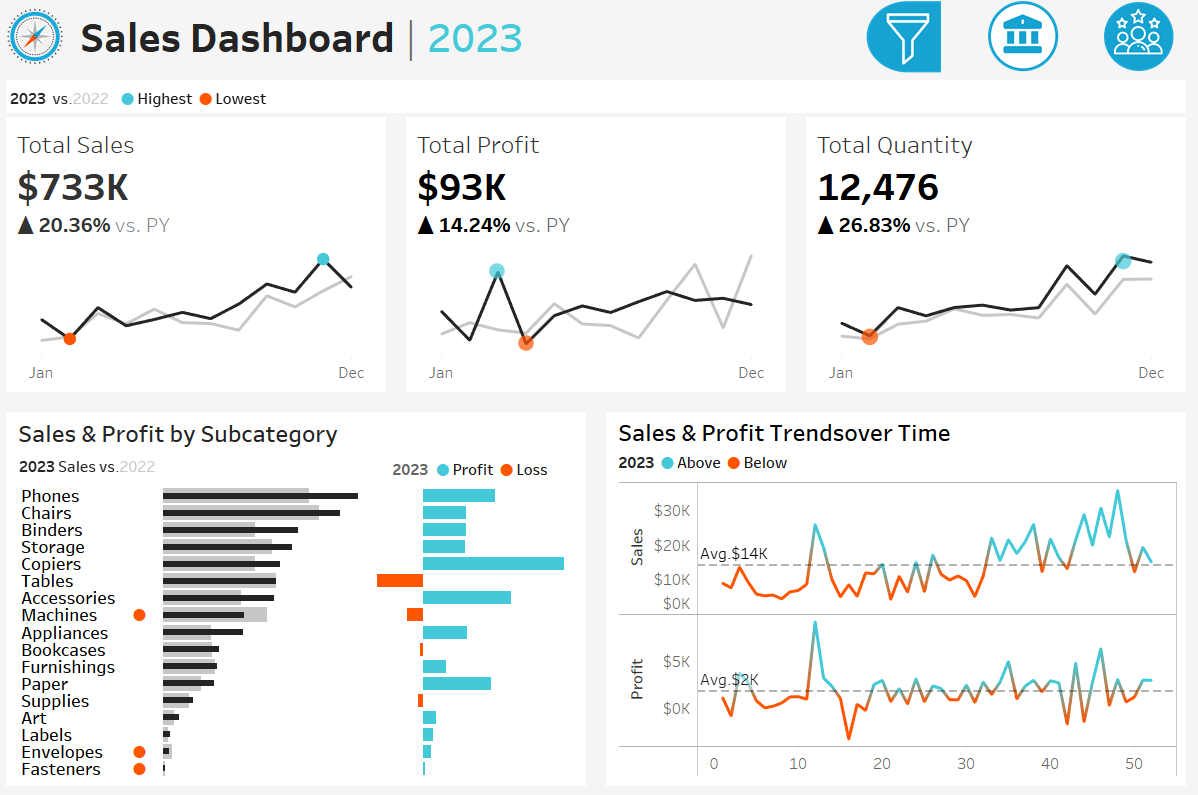

What the dashboard file says about the page in this screenshot:
{"tool":"tableau","page":{"name":"Sales Dashboard","canvas":[1200,800],"ordinal":1},"visuals":[{"type":"image","param":"Image/Icon - Logo.png","box":[0,0,77,80]},{"type":"text","box":[77,0,893,80]},{"type":"dashboard-object","box":[970,0,115,80]},{"type":"dashboard-object","box":[1085,0,115,80]},{"type":"dashboard-object","box":[866,3,80,76]},{"type":"blank","box":[957,10,232,52]},{"type":"text","box":[957,62,232,40]},{"type":"worksheet","title":"Legend KPI","mark":"Automatic","box":[0,80,1200,41]},{"type":"parameter","param":"[Parameters].[Parameter 1]","box":[957,102,232,56]},{"type":"worksheet","title":"KPI Sales","mark":"Automatic","rows":["Calculation_273030733344067592"],"cols":["Order Date"],"box":[0,121,400,285]},{"type":"worksheet","title":"KPI Profit","mark":"Automatic","rows":["Calculation_273030733363625999"],"cols":["Order Date"],"box":[400,121,400,285]},{"type":"worksheet","title":"KPI Quantity","mark":"Automatic","rows":["Min/Max Profit (copy)_273030733416497182"],"cols":["Order Date"],"box":[800,121,400,285]},{"type":"blank","box":[957,158,232,42]},{"type":"text","box":[957,200,232,40]},{"type":"filter","title":"KPI Sales","param":"[federated.0vbcj3a1vl79iu17ob1gk0ustjtu].[none:Category:nk]","box":[957,240,232,61]},{"type":"filter","title":"KPI Sales","param":"[federated.0vbcj3a1vl79iu17ob1gk0ustjtu].[none:Sub-Category:nk]","box":[957,301,232,61]},{"type":"text","box":[957,362,232,50]},{"type":"filter","title":"KPI Sales","param":"[federated.0vbcj3a1vl79iu17ob1gk0ustjtu].[none:Region:nk]","box":[957,412,232,61]},{"type":"text","box":[15,421,570,32]},{"type":"text","box":[615,421,570,29.4]},{"type":"text","box":[615,450.4,570,31.5]},{"type":"worksheet","title":"Legend Subcategory","mark":"Automatic","box":[19,453,372,34]},{"type":"text","box":[391,453,190,34]},{"type":"filter","title":"KPI Sales","param":"[federated.0vbcj3a1vl79iu17ob1gk0ustjtu].[none:State:nk]","box":[957,473,232,61]},{"type":"worksheet","title":"Weekly Trends","mark":"Automatic","rows":["Calculation_273030733321859072","Calculation_273030733362360333"],"cols":["Order Date"],"box":[615,481.9,570,303.1]},{"type":"worksheet","title":"Subcategory Comparision","mark":"Bar","rows":["Sub-Category","Calculation_273030733452263457"],"cols":["Calculation_273030733322571777","Calculation_273030733321859072","Calculation_273030733362360333"],"box":[15,487,570,298]},{"type":"filter","title":"KPI Sales","param":"[federated.0vbcj3a1vl79iu17ob1gk0ustjtu].[none:City:nk]","box":[957,534,232,61]}]}

Visuals, with their boxes in screenshot pixels (x1, y1, x2, y2), scaled from the page's 1200x800 canvas onto the 1198x795 screenshot:
image: region(0, 0, 77, 80)
text: region(77, 0, 968, 80)
dashboard-object: region(968, 0, 1083, 80)
dashboard-object: region(1083, 0, 1197, 80)
dashboard-object: region(865, 3, 944, 79)
blank: region(955, 10, 1187, 62)
text: region(955, 62, 1187, 101)
"Legend KPI" worksheet: region(0, 80, 1197, 120)
parameter: region(955, 101, 1187, 157)
"KPI Sales" worksheet: region(0, 120, 399, 403)
"KPI Profit" worksheet: region(399, 120, 799, 403)
"KPI Quantity" worksheet: region(799, 120, 1197, 403)
blank: region(955, 157, 1187, 199)
text: region(955, 199, 1187, 238)
"KPI Sales" filter: region(955, 238, 1187, 299)
"KPI Sales" filter: region(955, 299, 1187, 360)
text: region(955, 360, 1187, 409)
"KPI Sales" filter: region(955, 409, 1187, 470)
text: region(15, 418, 584, 450)
text: region(614, 418, 1183, 448)
text: region(614, 448, 1183, 479)
"Legend Subcategory" worksheet: region(19, 450, 390, 484)
text: region(390, 450, 580, 484)
"KPI Sales" filter: region(955, 470, 1187, 531)
"Weekly Trends" worksheet: region(614, 479, 1183, 780)
"Subcategory Comparision" worksheet (Bar marks): region(15, 484, 584, 780)
"KPI Sales" filter: region(955, 531, 1187, 591)
